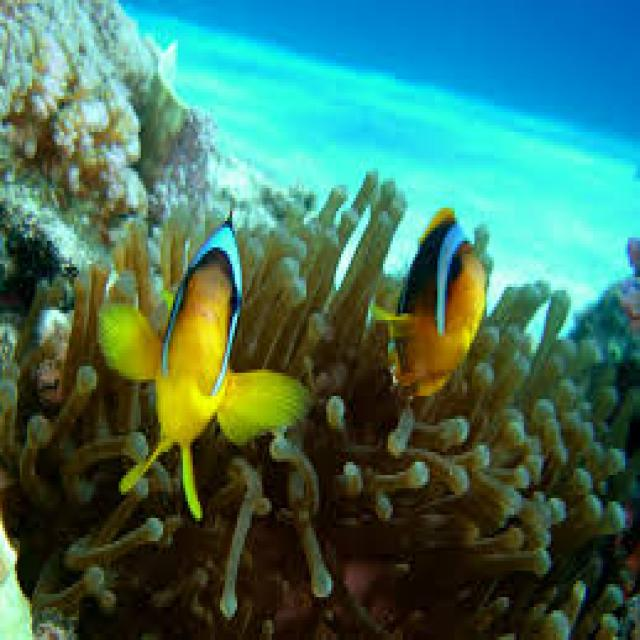Clownfish: (104, 213, 310, 517), (376, 204, 482, 394)
